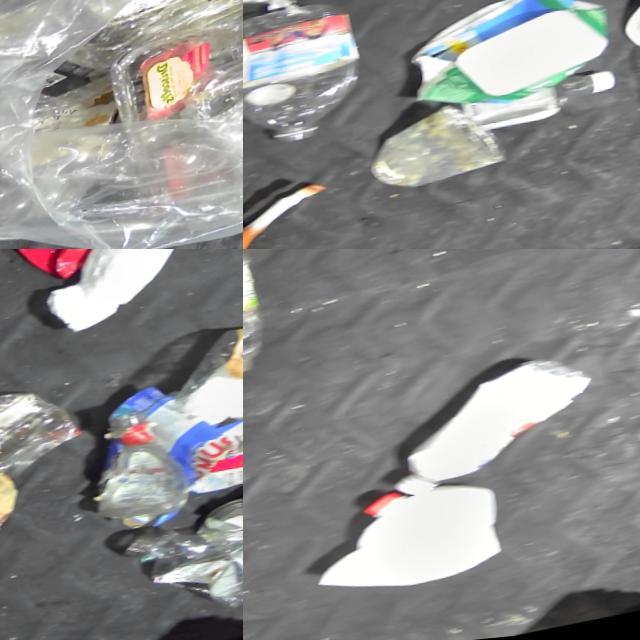can: (243, 0, 330, 22), (206, 504, 243, 552)
milk_jug: (311, 480, 506, 606)
non_white_jug: (89, 410, 194, 532), (0, 249, 184, 294), (188, 409, 243, 510)
plastic_bottle: (243, 0, 367, 161), (120, 510, 243, 636), (455, 74, 620, 144), (167, 307, 243, 455), (243, 249, 274, 386)
